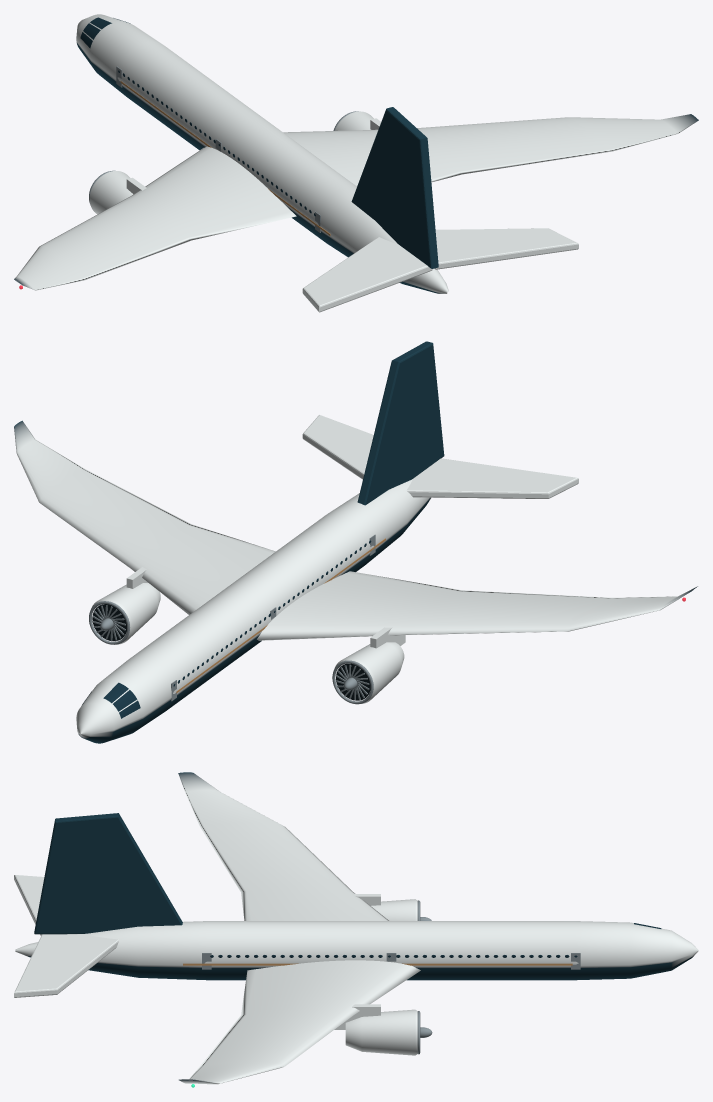
The picture shows the model from 3 angles, top to bottom: view 1: azimuth 30°, elevation 25°; view 2: azimuth 150°, elevation 25°; view 3: azimuth 270°, elevation 25°; orthographic projection. The views are drawn at different scales.
Bounding box in the file's own units: 60.12 × 16.69 × 56.72.
